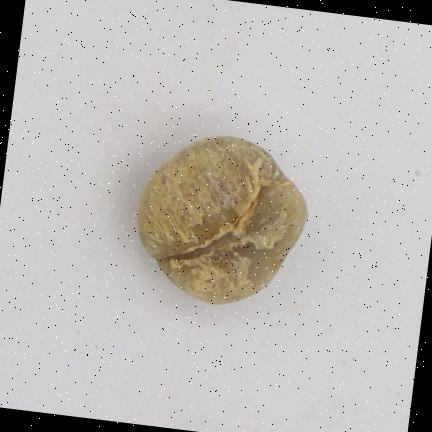husk: (137, 136, 307, 303)
